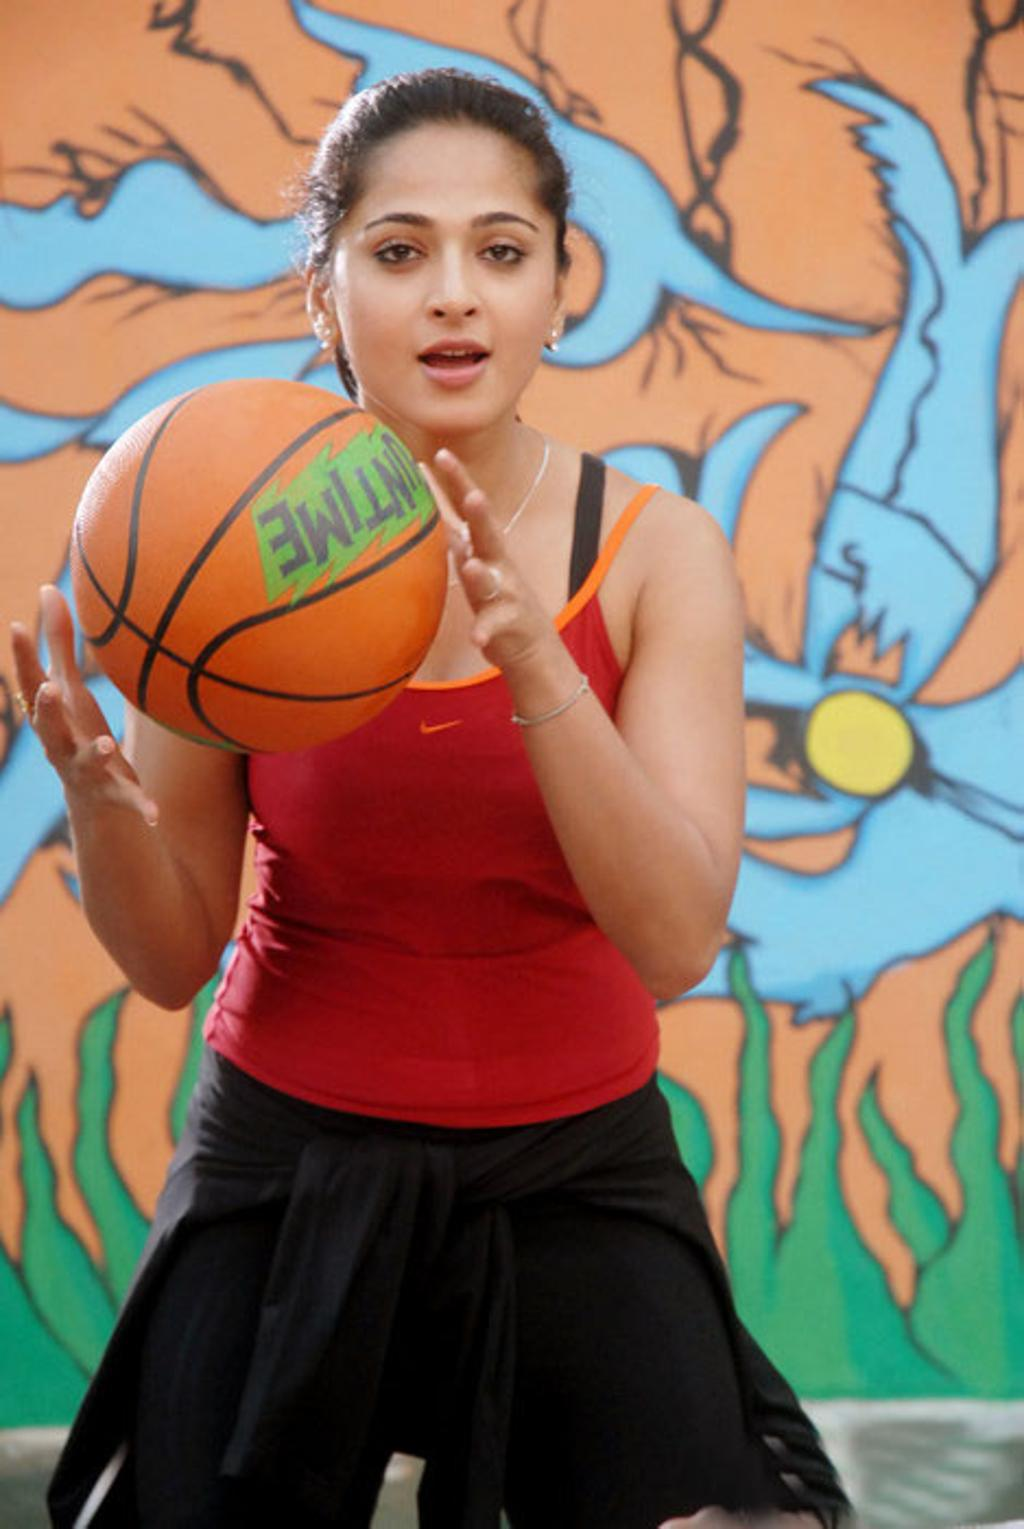face: (338, 123, 565, 430)
